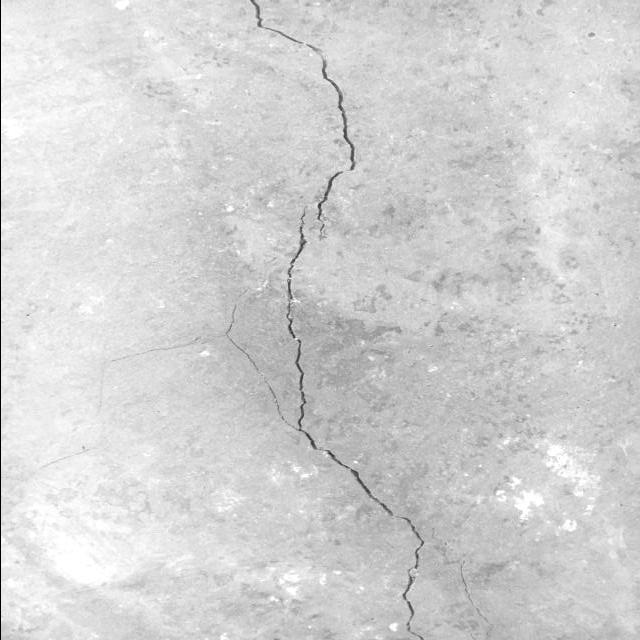SurfaceCrack: (215, 1, 483, 640)
